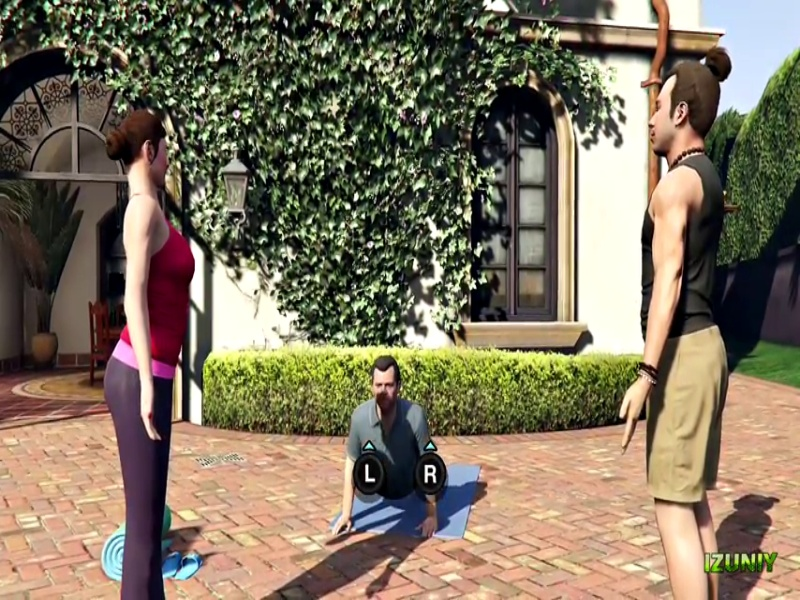licenseplate: (450, 346, 541, 358)
